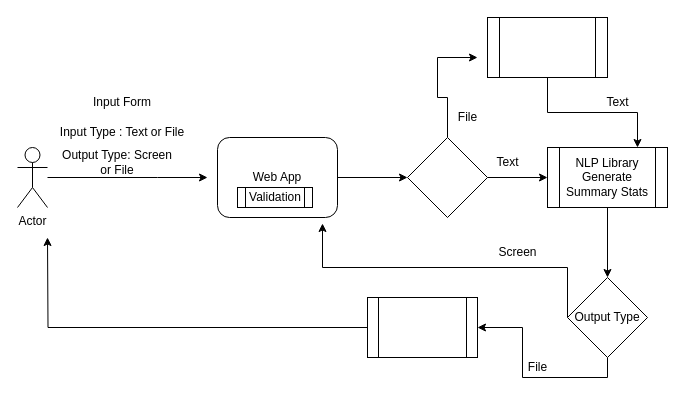
This 685x403 diagram has some shape labels left out. The centre of each missing label's shape, as x and y in pixels:
"Input Type" goes at (x=447, y=177).
"Read File" goes at (x=547, y=47).
"Write CSV FIle" goes at (x=422, y=327).
